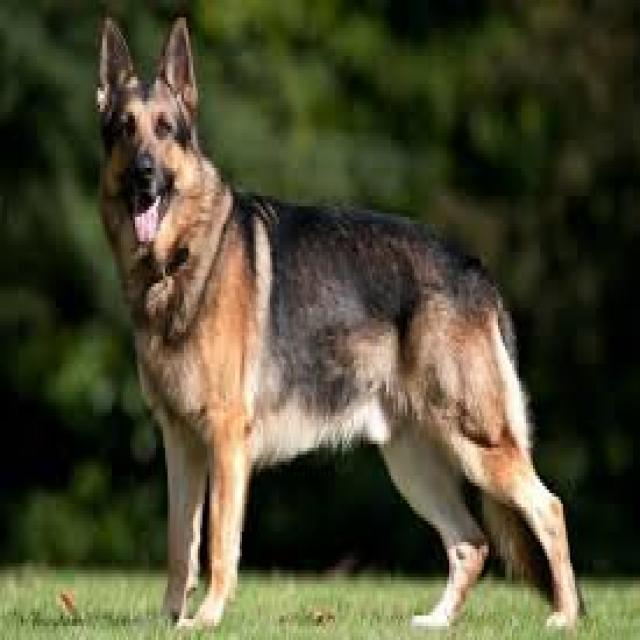Dog: (74, 8, 586, 636)
